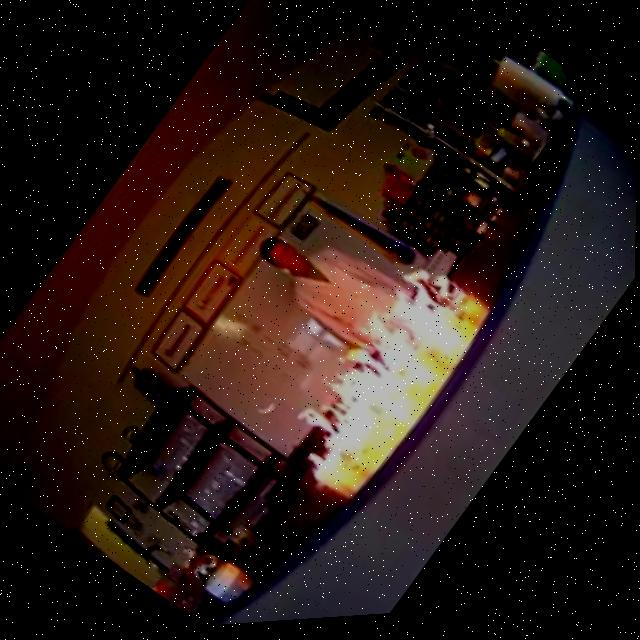Fire: (263, 248, 487, 509)
